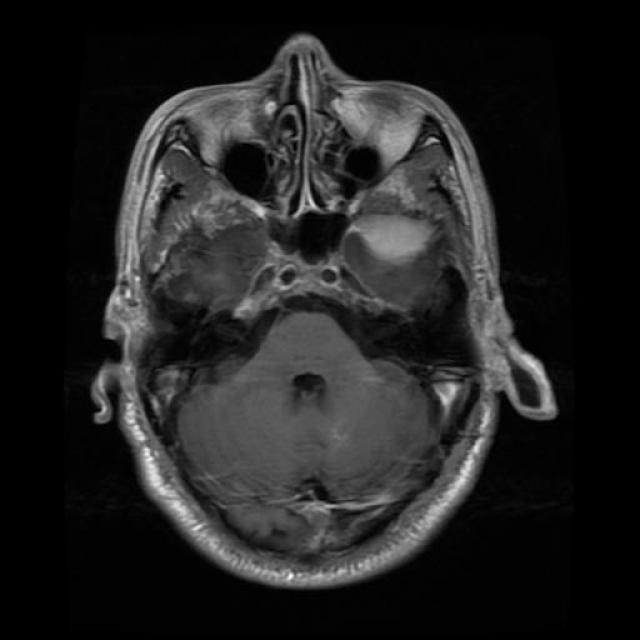meningioma: (351, 212, 436, 261)
